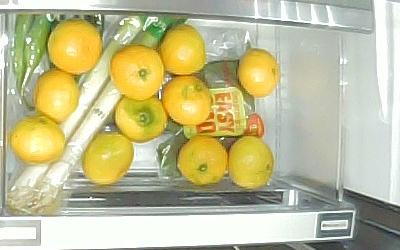tangerine: (47, 19, 103, 74), (110, 44, 165, 100), (83, 132, 135, 184), (10, 116, 66, 164), (163, 75, 212, 126), (115, 96, 169, 142), (227, 135, 273, 189), (178, 136, 228, 185), (159, 24, 206, 75), (35, 69, 80, 122), (237, 48, 280, 97)
